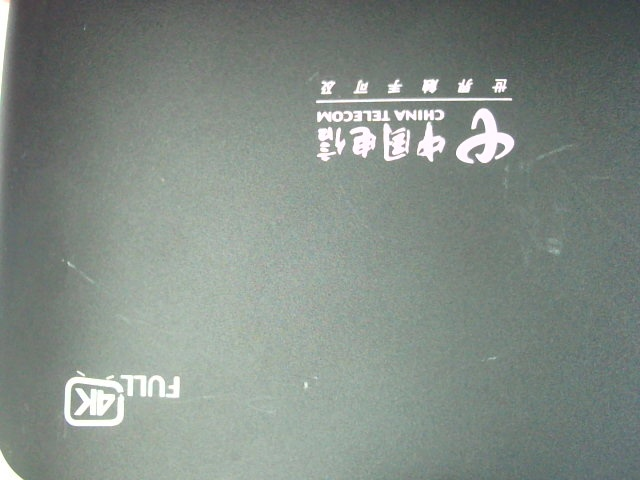AB_ChinaTelecom: (310, 75, 523, 168)
